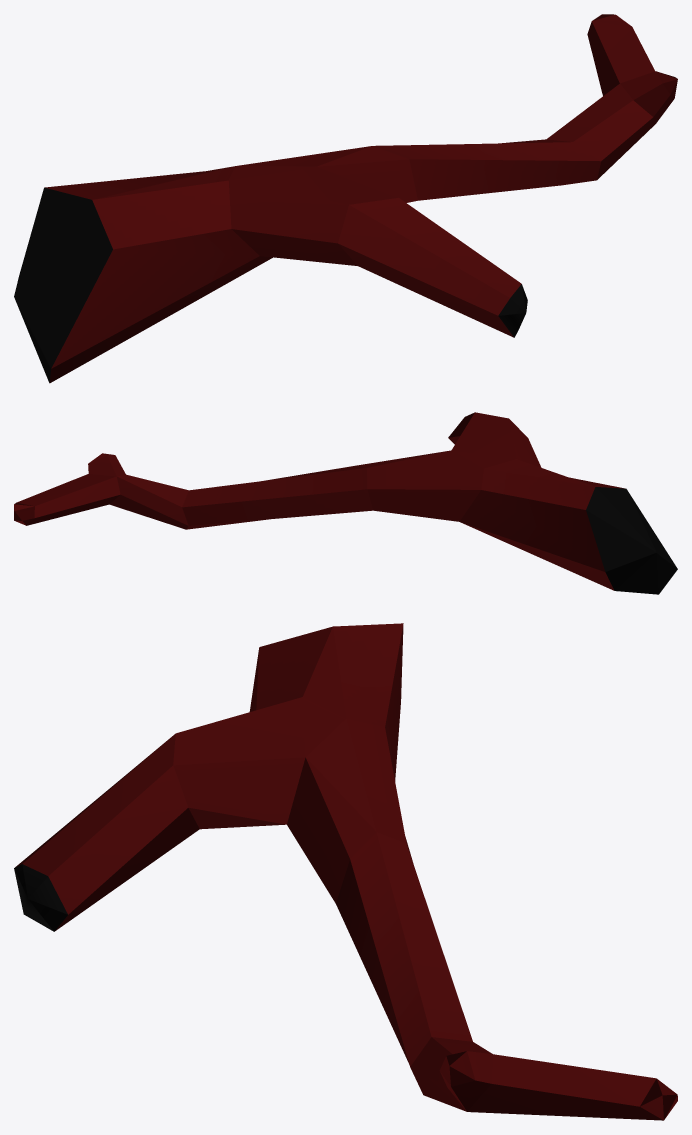
Rendered from SM_Env_DriftWood_04.gltf.
3 renders of one model, top to bottom at view 1: azimuth 30°, elevation 25°; view 2: azimuth 150°, elevation 25°; view 3: azimuth 270°, elevation 25°, orthographic. The views are drawn at different scales.
Parts seen in each view (by area): view 1: SM_Env_DriftWood_04; view 2: SM_Env_DriftWood_04; view 3: SM_Env_DriftWood_04.
Boxes of the visible parts, left/top/right/bottom form: SM_Env_DriftWood_04: left=14, top=14, right=677, bottom=383; SM_Env_DriftWood_04: left=14, top=412, right=677, bottom=594; SM_Env_DriftWood_04: left=14, top=623, right=677, bottom=1120.
Bounding box in the file's own units: 1.61 × 0.3073 × 1.06.
